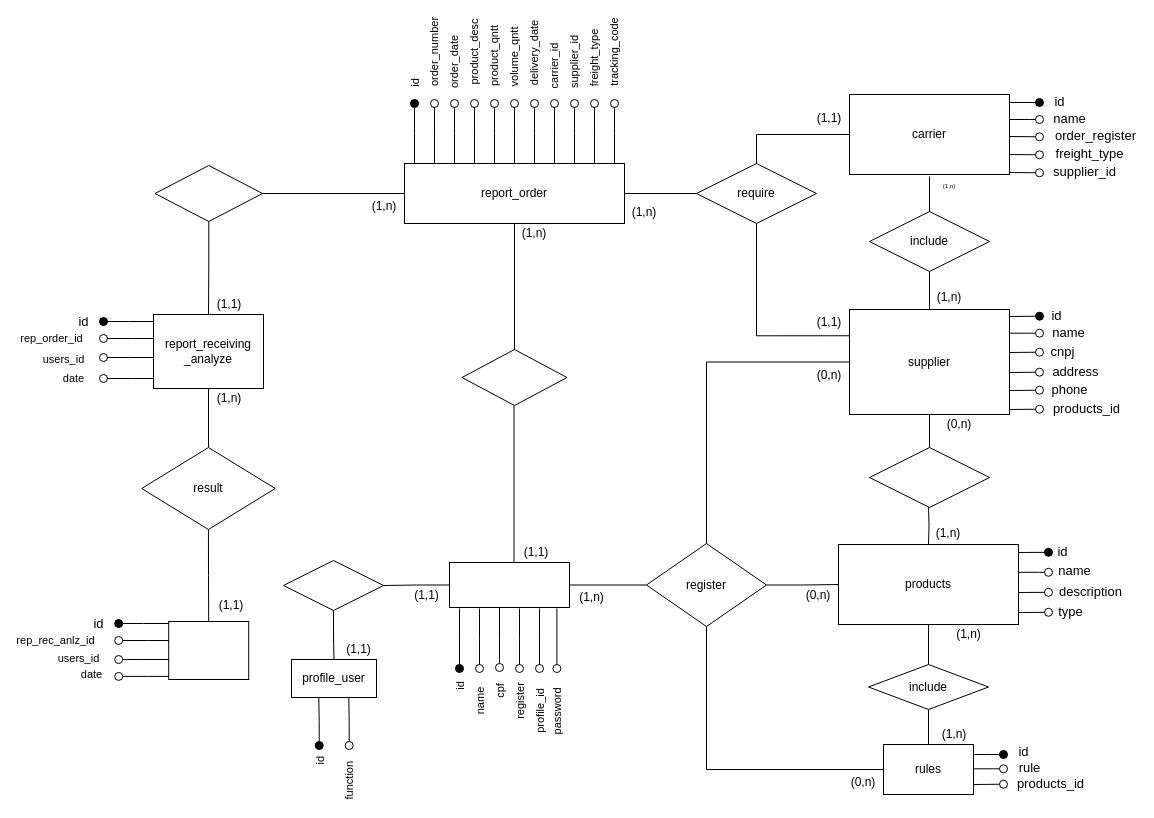
Some shapes in this 1154 by 818 pixel diagram are drawn without their labels. The centre of each missing label's shape, as x and y in pixels:
"analyze" belongs at pixel 514 377.
"issue" belongs at pixel 208 193.
"need" belongs at pixel 333 585.
"provide" belongs at pixel 929 477.
"technical _report" belongs at pixel 208 650.
"users" belongs at pixel 509 585.
